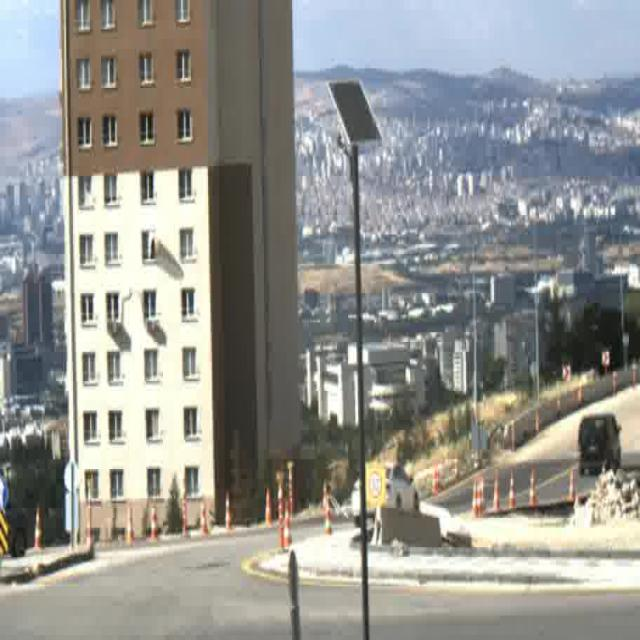Car: (352, 462, 422, 526), (576, 418, 623, 478)
